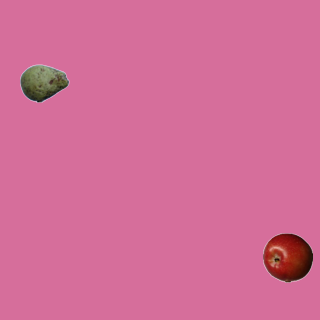Apple Braeburn: (262, 232, 312, 282)
Pear Stone: (19, 58, 69, 108)
